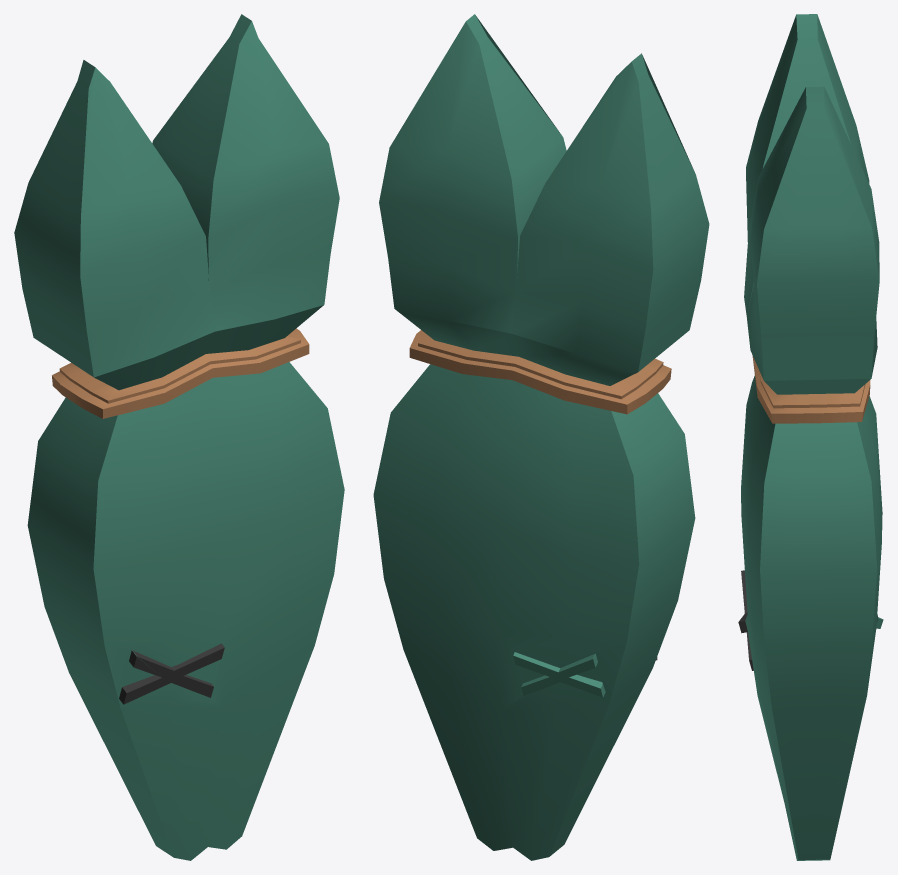
File: Pesce 2.fbx
3 views of the same model, side by side, from view 1: azimuth 30°, elevation 25°; view 2: azimuth 150°, elevation 25°; view 3: azimuth 270°, elevation 25° (orthographic). The views are drawn at different scales.
Parts seen in each view (by area): view 1: Fish 3.001; view 2: Fish 3.001; view 3: Fish 3.001.
Part boxes in pixels (x1=…): Fish 3.001: x1=14, y1=14, x2=344, y2=860; Fish 3.001: x1=373, y1=14, x2=709, y2=860; Fish 3.001: x1=738, y1=14, x2=883, y2=860.
Bounding box in the file's own units: 53.59 × 152 × 25.29.
